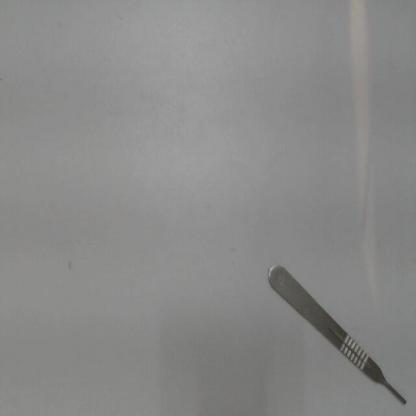No.3 BP Handle: (262, 245, 410, 412)
